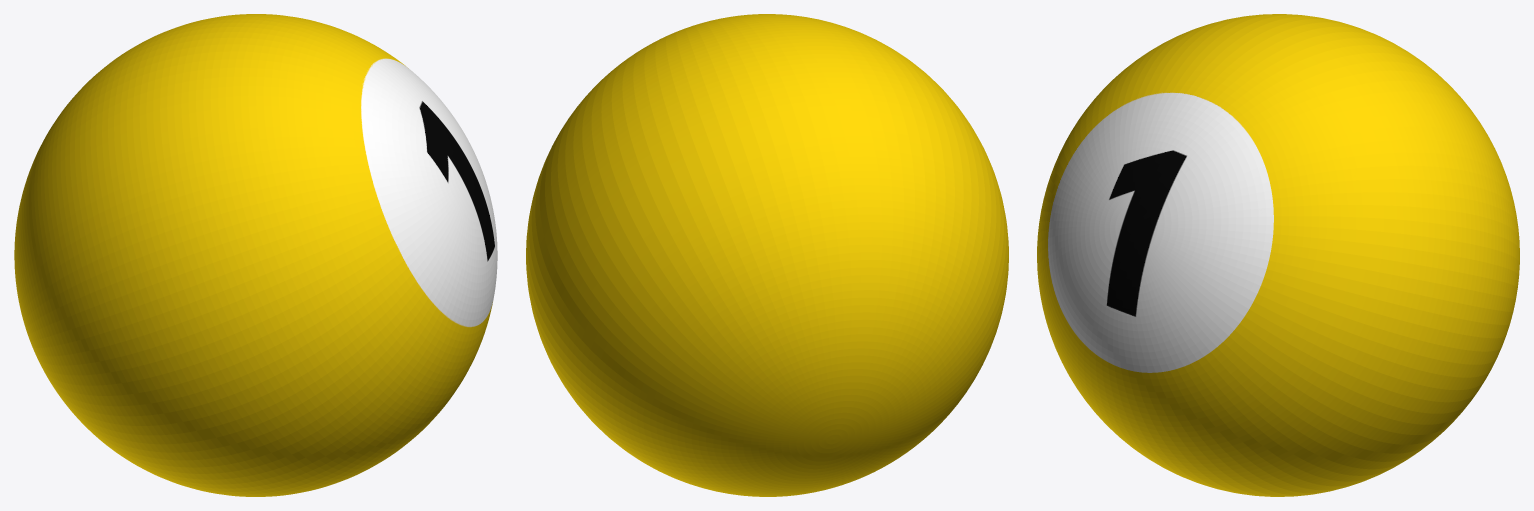
The picture shows the model from 3 angles, left to right: view 1: azimuth 30°, elevation 25°; view 2: azimuth 150°, elevation 25°; view 3: azimuth 270°, elevation 25°; orthographic projection.
Parts seen in each view (by area): view 1: Sphere; view 2: Sphere; view 3: Sphere.
Part boxes in pixels (left/top/right/bottom): Sphere: left=14, top=14, right=497, bottom=496; Sphere: left=526, top=14, right=1008, bottom=496; Sphere: left=1037, top=14, right=1519, bottom=496.
Size of the model in its own units: 3.7 by 3.7 by 3.7.
Materials: 1 (1 with a texture image).
